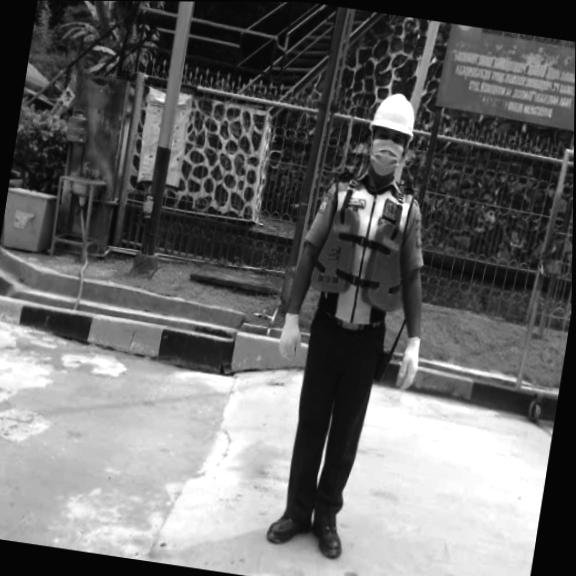safety_vest: (306, 198, 415, 317)
